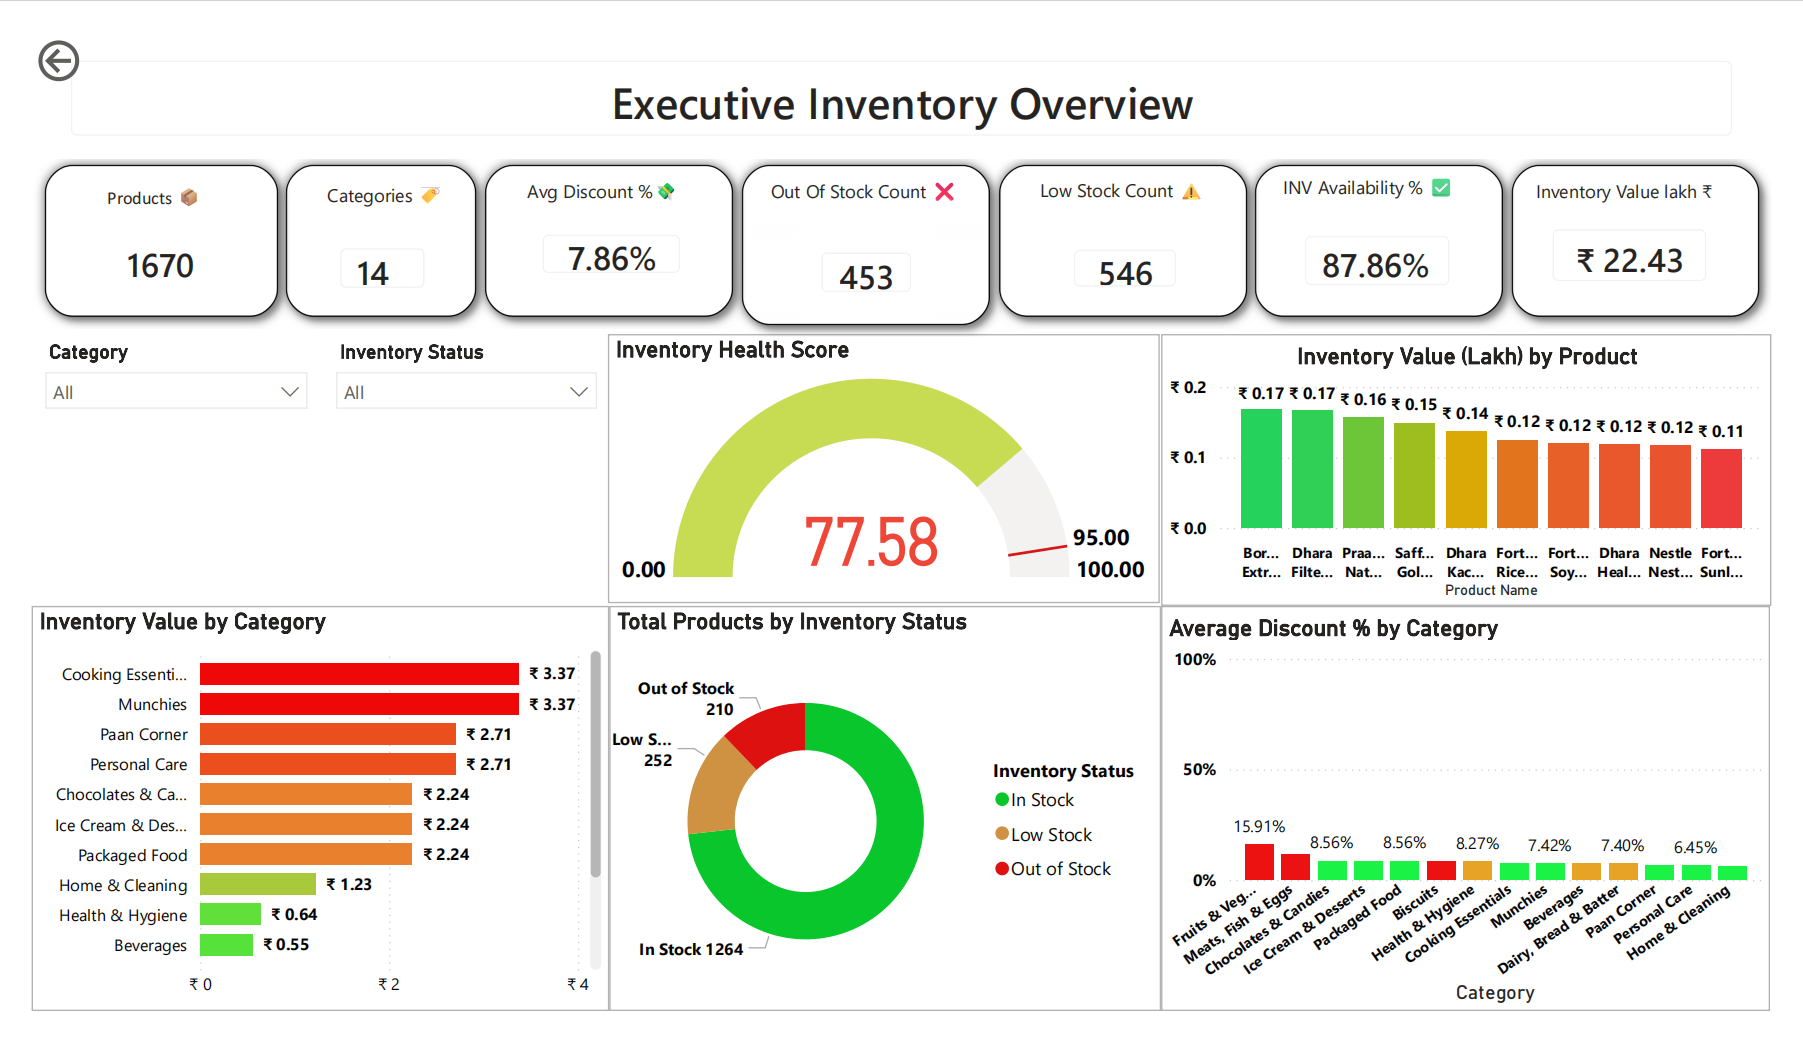

What the dashboard file says about the page in this screenshot:
{"tool":"powerbi","page":{"name":"Inventory Dashboard","canvas":[1280,720],"ordinal":0},"visuals":[{"type":"shape","box":[0.8,87.6,188.9,129.2],"z":0,"group":"g9"},{"type":"group","id":"g1","title":"Group 9","box":[1079.9,87.6,200,129.2],"z":0,"group":"g4"},{"type":"gauge","fields":{"Y":["Working.Inventory Health Score"]},"box":[424.3,221.4,405.7,197.1],"z":0},{"type":"group","id":"g2","title":"Group 6","box":[178.3,87.6,158.3,129.2],"z":1000},{"type":"shape","box":[178.3,87.6,158.3,129.2],"z":1000,"group":"g2"},{"type":"cardVisual","fields":{"Data":["Working.Inventory Value (Lakh)"]},"box":[1102.1,126.5,147.2,72.2],"z":1000,"group":"g4"},{"type":"shape","box":[325.3,87.6,200,129.2],"z":2000,"group":"g11"},{"type":"cardVisual","fields":{"Data":["Working.Total categories"]},"box":[210,141.4,95.7,62.9],"z":2000},{"type":"group","id":"g3","title":"Group 12","box":[0.8,87.6,188.9,129.2],"z":3000},{"type":"group","id":"g4","title":"Group 10","box":[1079.9,87.6,200,129.2],"z":4000},{"type":"textbox","box":[360.4,102,133.3,41.3],"z":4000,"group":"g11"},{"type":"group","id":"g5","title":"Group 11","box":[891.3,87.6,200,129.2],"z":5000},{"type":"textbox","box":[213.4,109.1,101.4,41.3],"z":5000,"group":"g2"},{"type":"textbox","box":[50.8,110.9,87.5,41.3],"z":5000,"group":"g9"},{"type":"group","id":"g6","title":"Group 14","box":[702.6,87.6,200,129.2],"z":6000},{"type":"shape","box":[702.6,87.6,200,129.2],"z":6000,"group":"g6"},{"type":"group","id":"g7","title":"Group 13","box":[514,87.6,200,134.7],"z":7000},{"type":"shape","box":[514,87.6,200,134.7],"z":7000,"group":"g7"},{"type":"group","id":"g8","title":"Group 1","box":[325.3,87.6,200,129.2],"z":8000},{"type":"textbox","box":[539,101.5,150,33.3],"z":8000,"group":"g7"},{"type":"shape","box":[891.3,87.6,200,129.2],"z":9000,"group":"g5"},{"type":"shape","box":[1079.9,87.6,200,129.2],"z":9000,"group":"g1"},{"type":"clusteredBarChart","title":"Inventory Value by Category","fields":{"Category":["Working.Category"],"Y":["Working.Inventory Value (Lakh)"]},"box":[0,420.9,425.5,298.3],"z":9000},{"type":"group","id":"g9","title":"Group 7","box":[0.8,87.6,188.9,129.2],"z":10000,"group":"g3"},{"type":"donutChart","fields":{"Category":["Working.Inventory Status"],"Y":["Working.Total Products"]},"box":[425.5,420.9,405.8,298.3],"z":10000},{"type":"group","id":"g10","title":"Group 3","box":[325.3,87.6,200,129.2],"z":11000,"group":"g8"},{"type":"columnChart","title":"Inventory Value (Lakh) by Product","fields":{"Category":["Working.Product Name"],"Y":["Working.Inventory Value (Lakh)"]},"box":[831.4,221.4,448.6,200],"z":11000},{"type":"columnChart","fields":{"Category":["Working.Category"],"Y":["Working.Average Discount %"]},"box":[831,421,448,298],"z":12000},{"type":"textbox","box":[1102.4,102,155.6,41.3],"z":12001,"group":"g1"},{"type":"cardVisual","fields":{"Data":["Working.Total Products"]},"box":[30,133.4,130.6,65.3],"z":12003,"group":"g3"},{"type":"textbox","box":[736.2,100.2,134.7,41.3],"z":13000,"group":"g6"},{"type":"slicer","fields":{"Values":["Working.Category"]},"box":[0,221.4,212.9,200],"z":13000},{"type":"slicer","fields":{"Values":["Working.Inventory Status"]},"box":[214.3,221.4,211.4,200],"z":14000},{"type":"cardVisual","fields":{"Data":["Working.Dashboard Title"]},"box":[11.7,3.3,1256.7,88.3],"z":15000},{"type":"textbox","box":[916.3,98.1,150,34.5],"z":15000,"group":"g5"},{"type":"cardVisual","fields":{"Data":["Working.Out Of Stock Count"]},"box":[564,143.2,100,63.9],"z":15000,"group":"g7"},{"type":"actionButton","box":[0,0,100,40],"z":16000},{"type":"cardVisual","fields":{"Data":["Working.Average Discount %"]},"box":[359.2,130.1,134.8,62.1],"z":16001,"group":"g8"},{"type":"group","id":"g11","title":"Group 8","box":[325.3,87.6,200,129.2],"z":17001,"group":"g10"},{"type":"cardVisual","fields":{"Data":["Working.Low Stock Count"]},"box":[749.8,141.8,108.3,61.1],"z":19000,"group":"g6"},{"type":"cardVisual","fields":{"Data":["Working.Inventory Availability %"]},"box":[920.5,132,140.3,69.4],"z":20000,"group":"g5"}]}

Visuals, with their boxes in screenshot pixels (x1, y1, x2, y2), scaled from the page's 1280x720 canvas onto the 1803x1040 screenshot:
shape: [left=1, top=127, right=267, bottom=313]
"Group 9" group: [left=1521, top=127, right=1802, bottom=313]
gauge - Working.Inventory Health Score: [left=598, top=320, right=1169, bottom=604]
"Group 6" group: [left=251, top=127, right=474, bottom=313]
shape: [left=251, top=127, right=474, bottom=313]
cardVisual - Working.Inventory Value (Lakh): [left=1552, top=183, right=1760, bottom=287]
shape: [left=458, top=127, right=740, bottom=313]
cardVisual - Working.Total categories: [left=296, top=204, right=431, bottom=295]
"Group 12" group: [left=1, top=127, right=267, bottom=313]
"Group 10" group: [left=1521, top=127, right=1802, bottom=313]
textbox: [left=508, top=147, right=695, bottom=207]
"Group 11" group: [left=1255, top=127, right=1537, bottom=313]
textbox: [left=301, top=158, right=443, bottom=217]
textbox: [left=72, top=160, right=195, bottom=220]
"Group 14" group: [left=990, top=127, right=1271, bottom=313]
shape: [left=990, top=127, right=1271, bottom=313]
"Group 13" group: [left=724, top=127, right=1006, bottom=321]
shape: [left=724, top=127, right=1006, bottom=321]
"Group 1" group: [left=458, top=127, right=740, bottom=313]
textbox: [left=759, top=147, right=971, bottom=195]
shape: [left=1255, top=127, right=1537, bottom=313]
shape: [left=1521, top=127, right=1802, bottom=313]
"Inventory Value by Category" clusteredBarChart: [left=0, top=608, right=599, bottom=1039]
"Group 7" group: [left=1, top=127, right=267, bottom=313]
donutChart - Working.Inventory Status x Working.Total Products: [left=599, top=608, right=1171, bottom=1039]
"Group 3" group: [left=458, top=127, right=740, bottom=313]
"Inventory Value (Lakh) by Product" columnChart: [left=1171, top=320, right=1802, bottom=609]
columnChart - Working.Category x Working.Average Discount %: [left=1171, top=608, right=1802, bottom=1039]
textbox: [left=1553, top=147, right=1772, bottom=207]
cardVisual - Working.Total Products: [left=42, top=193, right=226, bottom=287]
textbox: [left=1037, top=145, right=1227, bottom=204]
slicer - Working.Category: [left=0, top=320, right=300, bottom=609]
slicer - Working.Inventory Status: [left=302, top=320, right=600, bottom=609]
cardVisual - Working.Dashboard Title: [left=16, top=5, right=1787, bottom=132]
textbox: [left=1291, top=142, right=1502, bottom=192]
cardVisual - Working.Out Of Stock Count: [left=794, top=207, right=935, bottom=299]
actionButton: [left=0, top=0, right=141, bottom=58]
cardVisual - Working.Average Discount %: [left=506, top=188, right=696, bottom=278]
"Group 8" group: [left=458, top=127, right=740, bottom=313]
cardVisual - Working.Low Stock Count: [left=1056, top=205, right=1209, bottom=293]
cardVisual - Working.Inventory Availability %: [left=1297, top=191, right=1494, bottom=291]
